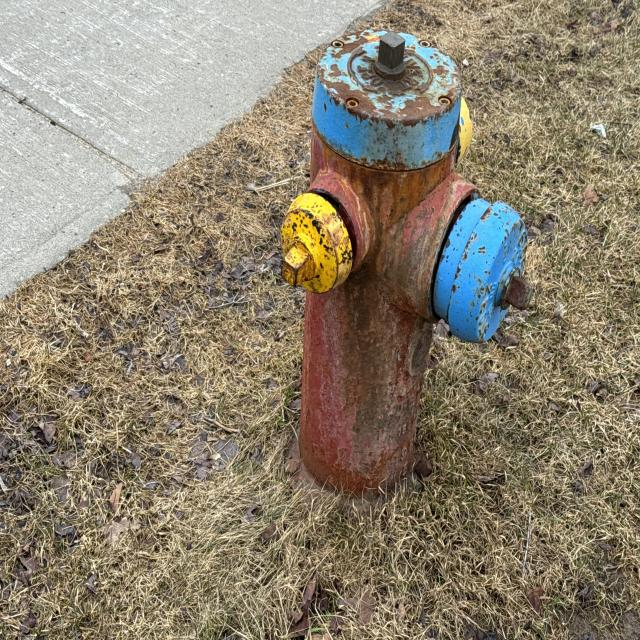Fire hydrant: (278, 28, 533, 520)
